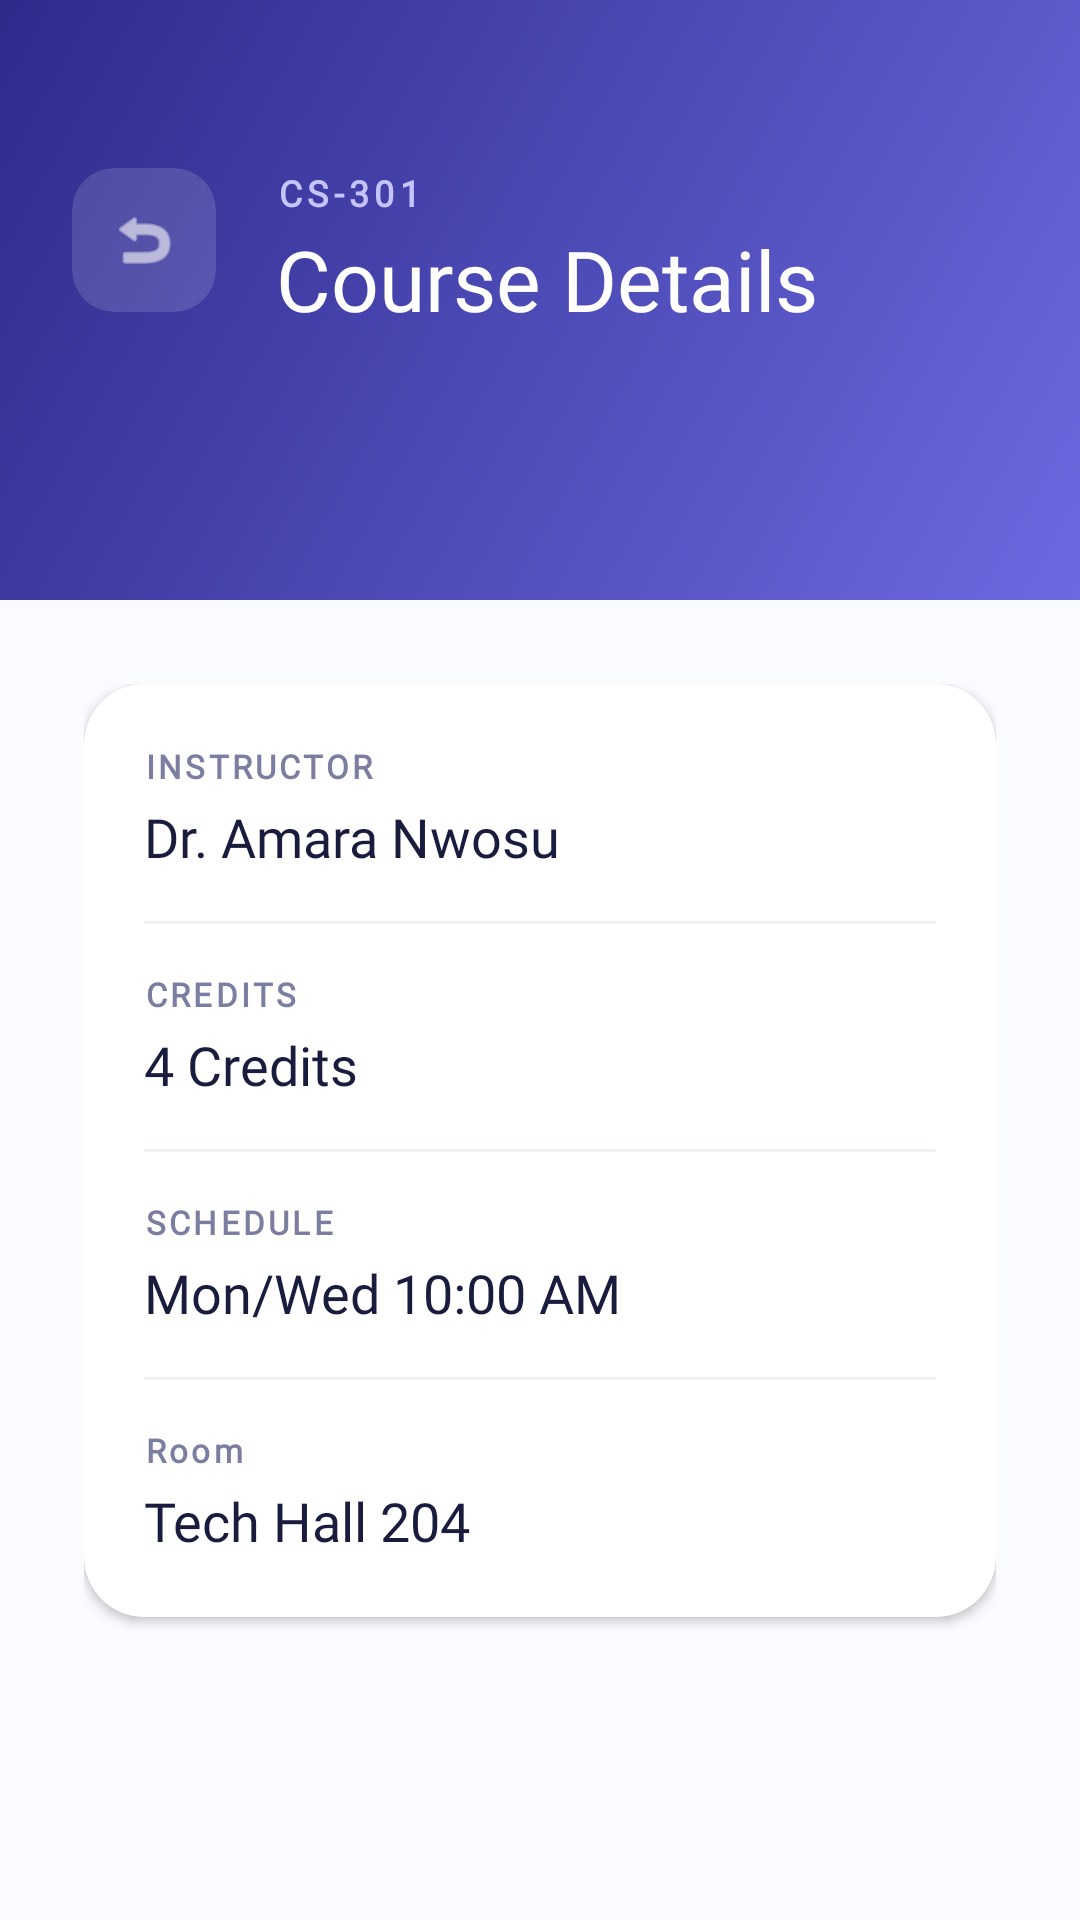

Screen size 1080×1920. Icon name, then its box in pixels as bbox(x1, y1, x2, y2):
Back: bbox(119, 217, 171, 264)
